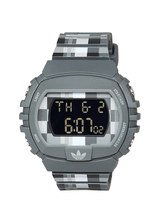watch: (11, 24, 146, 196)
